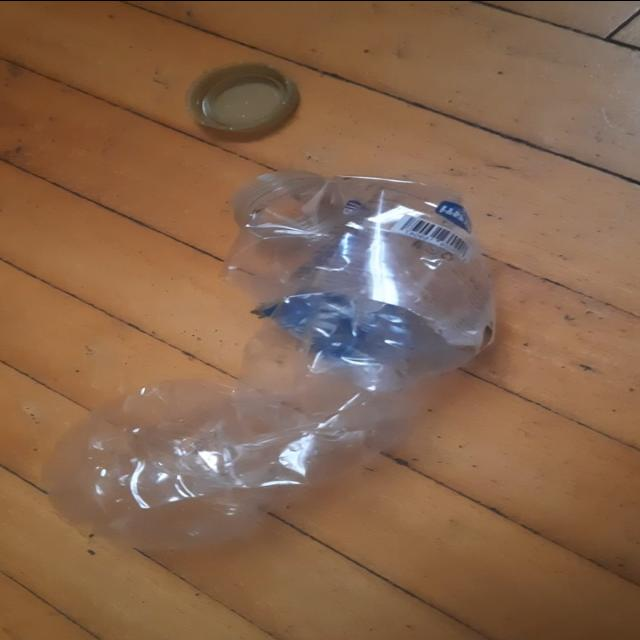Plastic: (40, 170, 495, 548)
